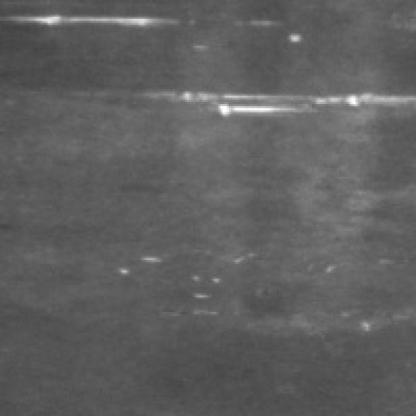scratches: (170, 85, 416, 125), (6, 10, 183, 42)
